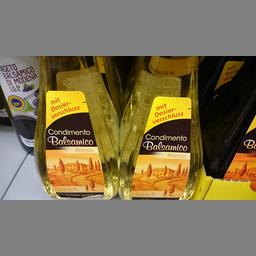vinegar: (33, 54, 118, 196), (120, 55, 201, 199)
